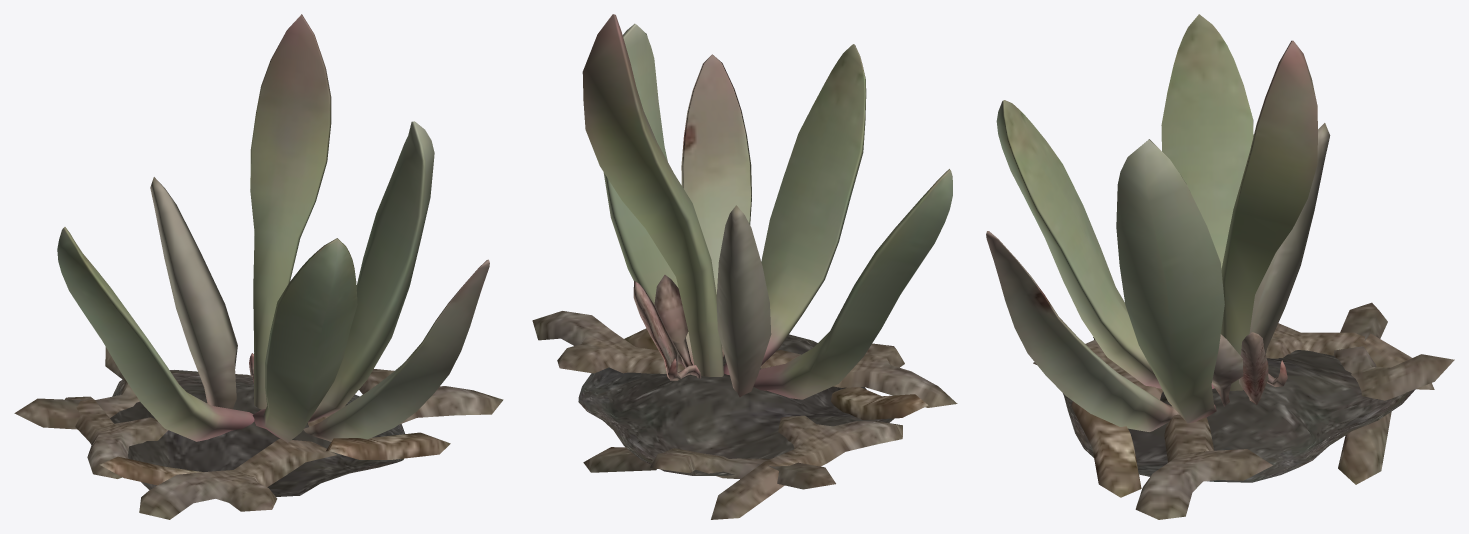
The model's file is cheiridopsis_succulent.glb.
3 views of the same model, side by side, from view 1: azimuth 30°, elevation 25°; view 2: azimuth 150°, elevation 25°; view 3: azimuth 270°, elevation 25° (orthographic). The views are drawn at different scales.
Parts seen in each view (by area): view 1: cheiridopsis_succulent_a_LOD0; view 2: cheiridopsis_succulent_a_LOD0; view 3: cheiridopsis_succulent_a_LOD0.
Part boxes in pixels (x1,y1,x2,y2): cheiridopsis_succulent_a_LOD0: (14,14,503,519); cheiridopsis_succulent_a_LOD0: (532,14,957,519); cheiridopsis_succulent_a_LOD0: (986,14,1454,519).
Bounding box in the file's own units: 0.2012 × 0.1854 × 0.1772.
Materials: 1 (1 with a texture image).
